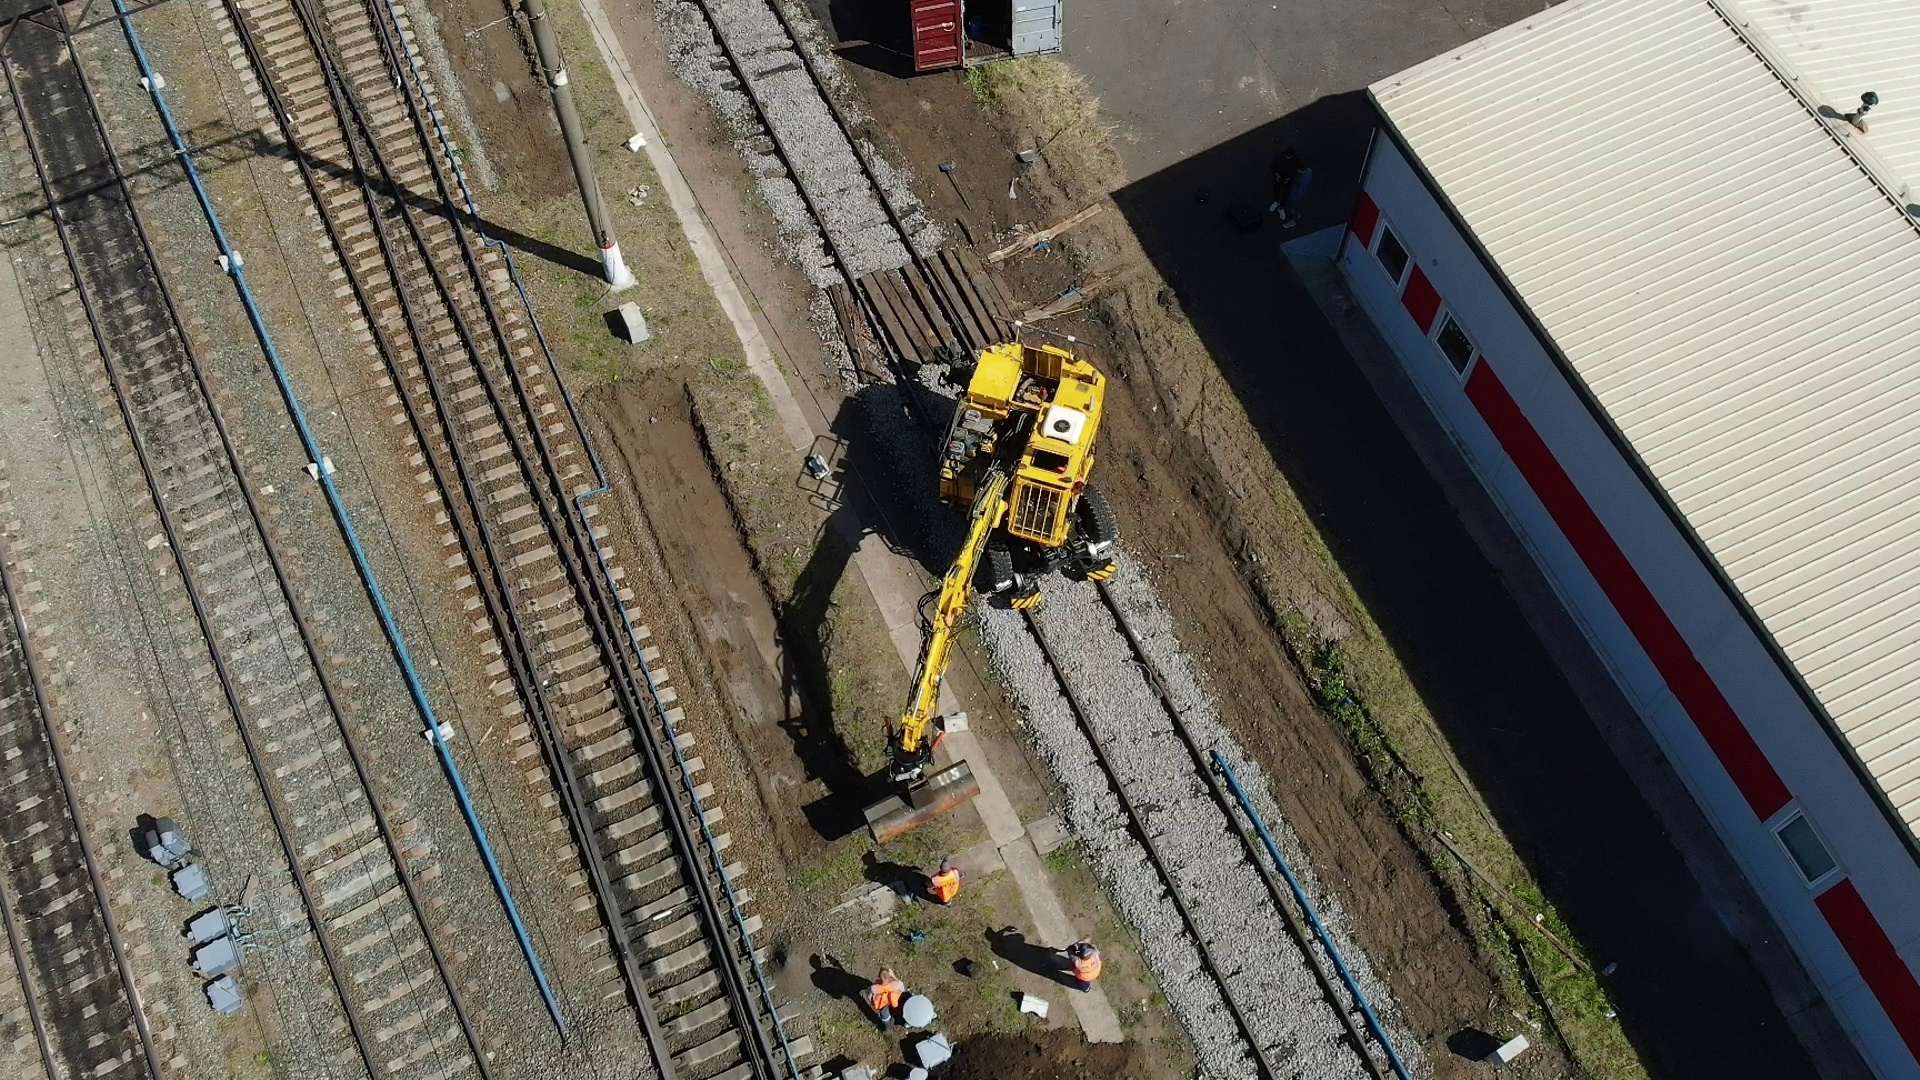kjtv: (934, 330, 1117, 591)
